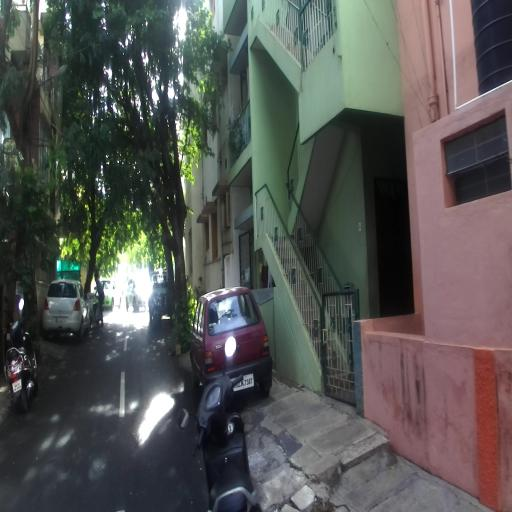street_light_0: (28, 64, 68, 107)
